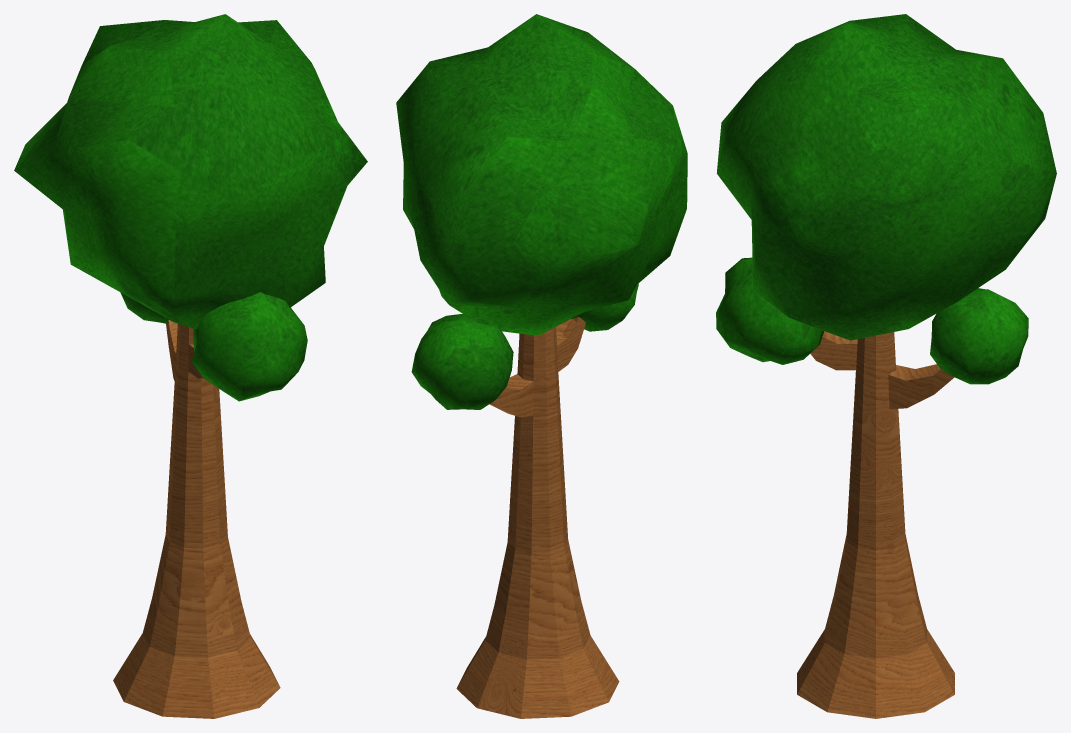
Rendered from FarmTree.fbx.
3 renders of one model, left to right at view 1: azimuth 30°, elevation 25°; view 2: azimuth 150°, elevation 25°; view 3: azimuth 270°, elevation 25°, orthographic. The views are drawn at different scales.
Parts seen in each view (by area): view 1: FarmTree; view 2: FarmTree; view 3: FarmTree.
Part boxes in pixels (<box>): FarmTree: <box>14,14,367,718</box>; FarmTree: <box>396,14,687,718</box>; FarmTree: <box>716,14,1056,718</box>.
Bounding box in the file's own units: 2.2 × 5.17 × 2.4.
